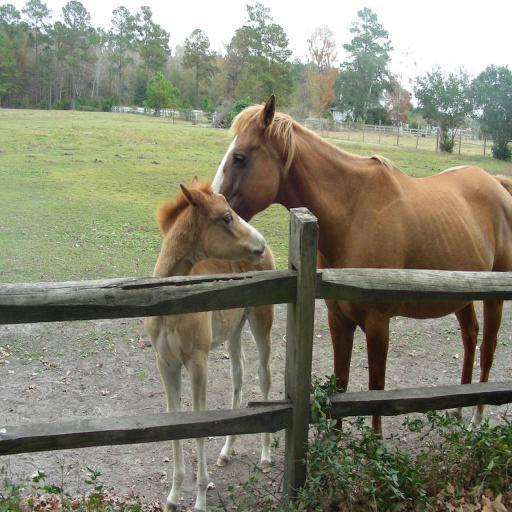horse: (210, 92, 511, 448), (144, 175, 276, 512)
